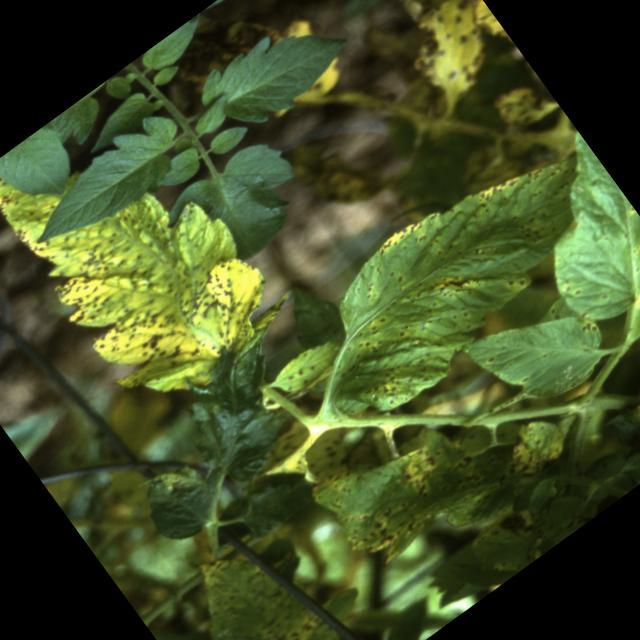Tomato Septoria spot leaf: (0, 78, 323, 458), (263, 121, 633, 448), (304, 380, 538, 603), (486, 132, 640, 361), (457, 268, 622, 429), (162, 518, 368, 640), (352, 0, 522, 111), (266, 330, 348, 402)
Tomato healthy leaf: (12, 102, 200, 265), (161, 126, 328, 286), (187, 0, 361, 150), (0, 120, 90, 224)
